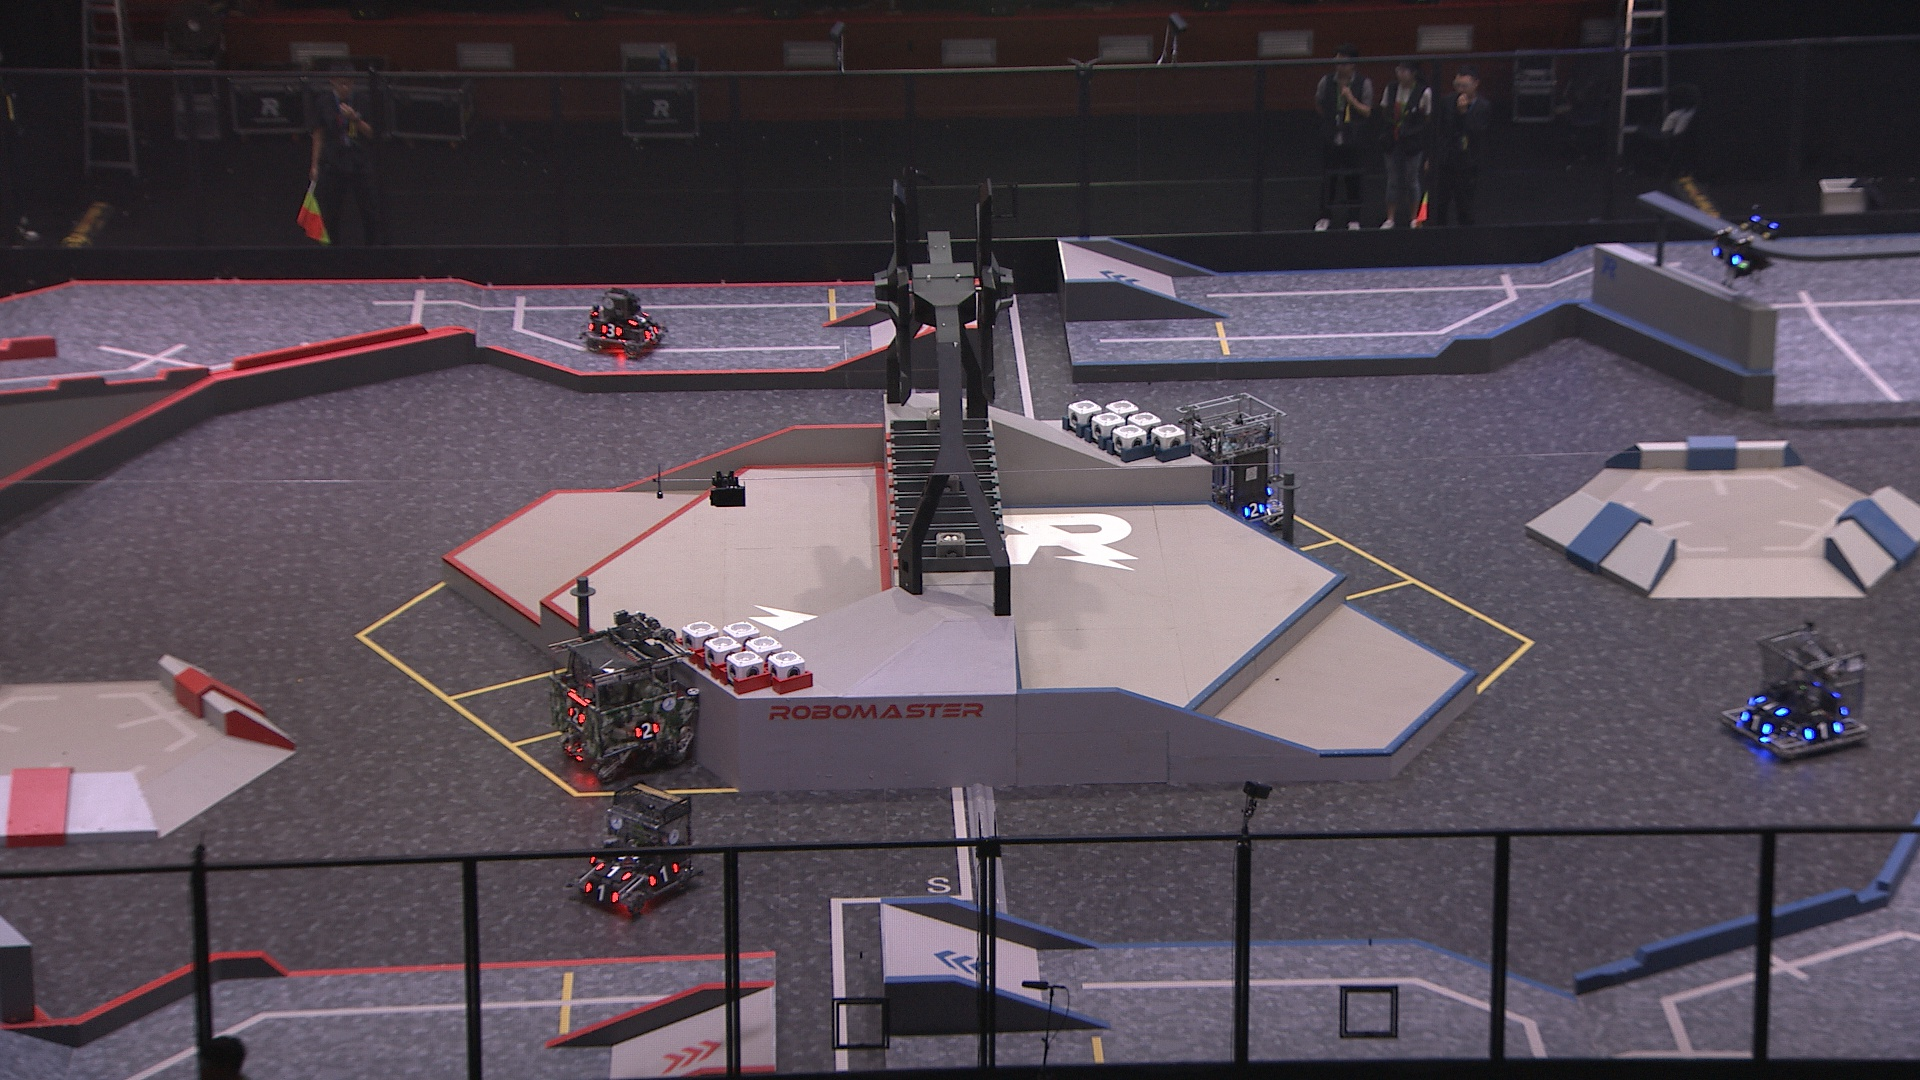armor: (1803, 713, 1847, 744), (646, 858, 684, 889), (1741, 704, 1774, 738), (593, 856, 636, 882), (1751, 692, 1792, 719), (582, 882, 621, 907), (632, 717, 661, 742), (1712, 244, 1742, 266), (564, 703, 589, 727), (1240, 498, 1267, 520), (626, 306, 651, 327), (638, 320, 661, 342), (603, 322, 624, 339)
car: (543, 626, 704, 781), (1718, 618, 1875, 757), (575, 781, 698, 916), (1171, 390, 1291, 529), (582, 287, 671, 363)
watcher: (1708, 200, 1779, 291)
